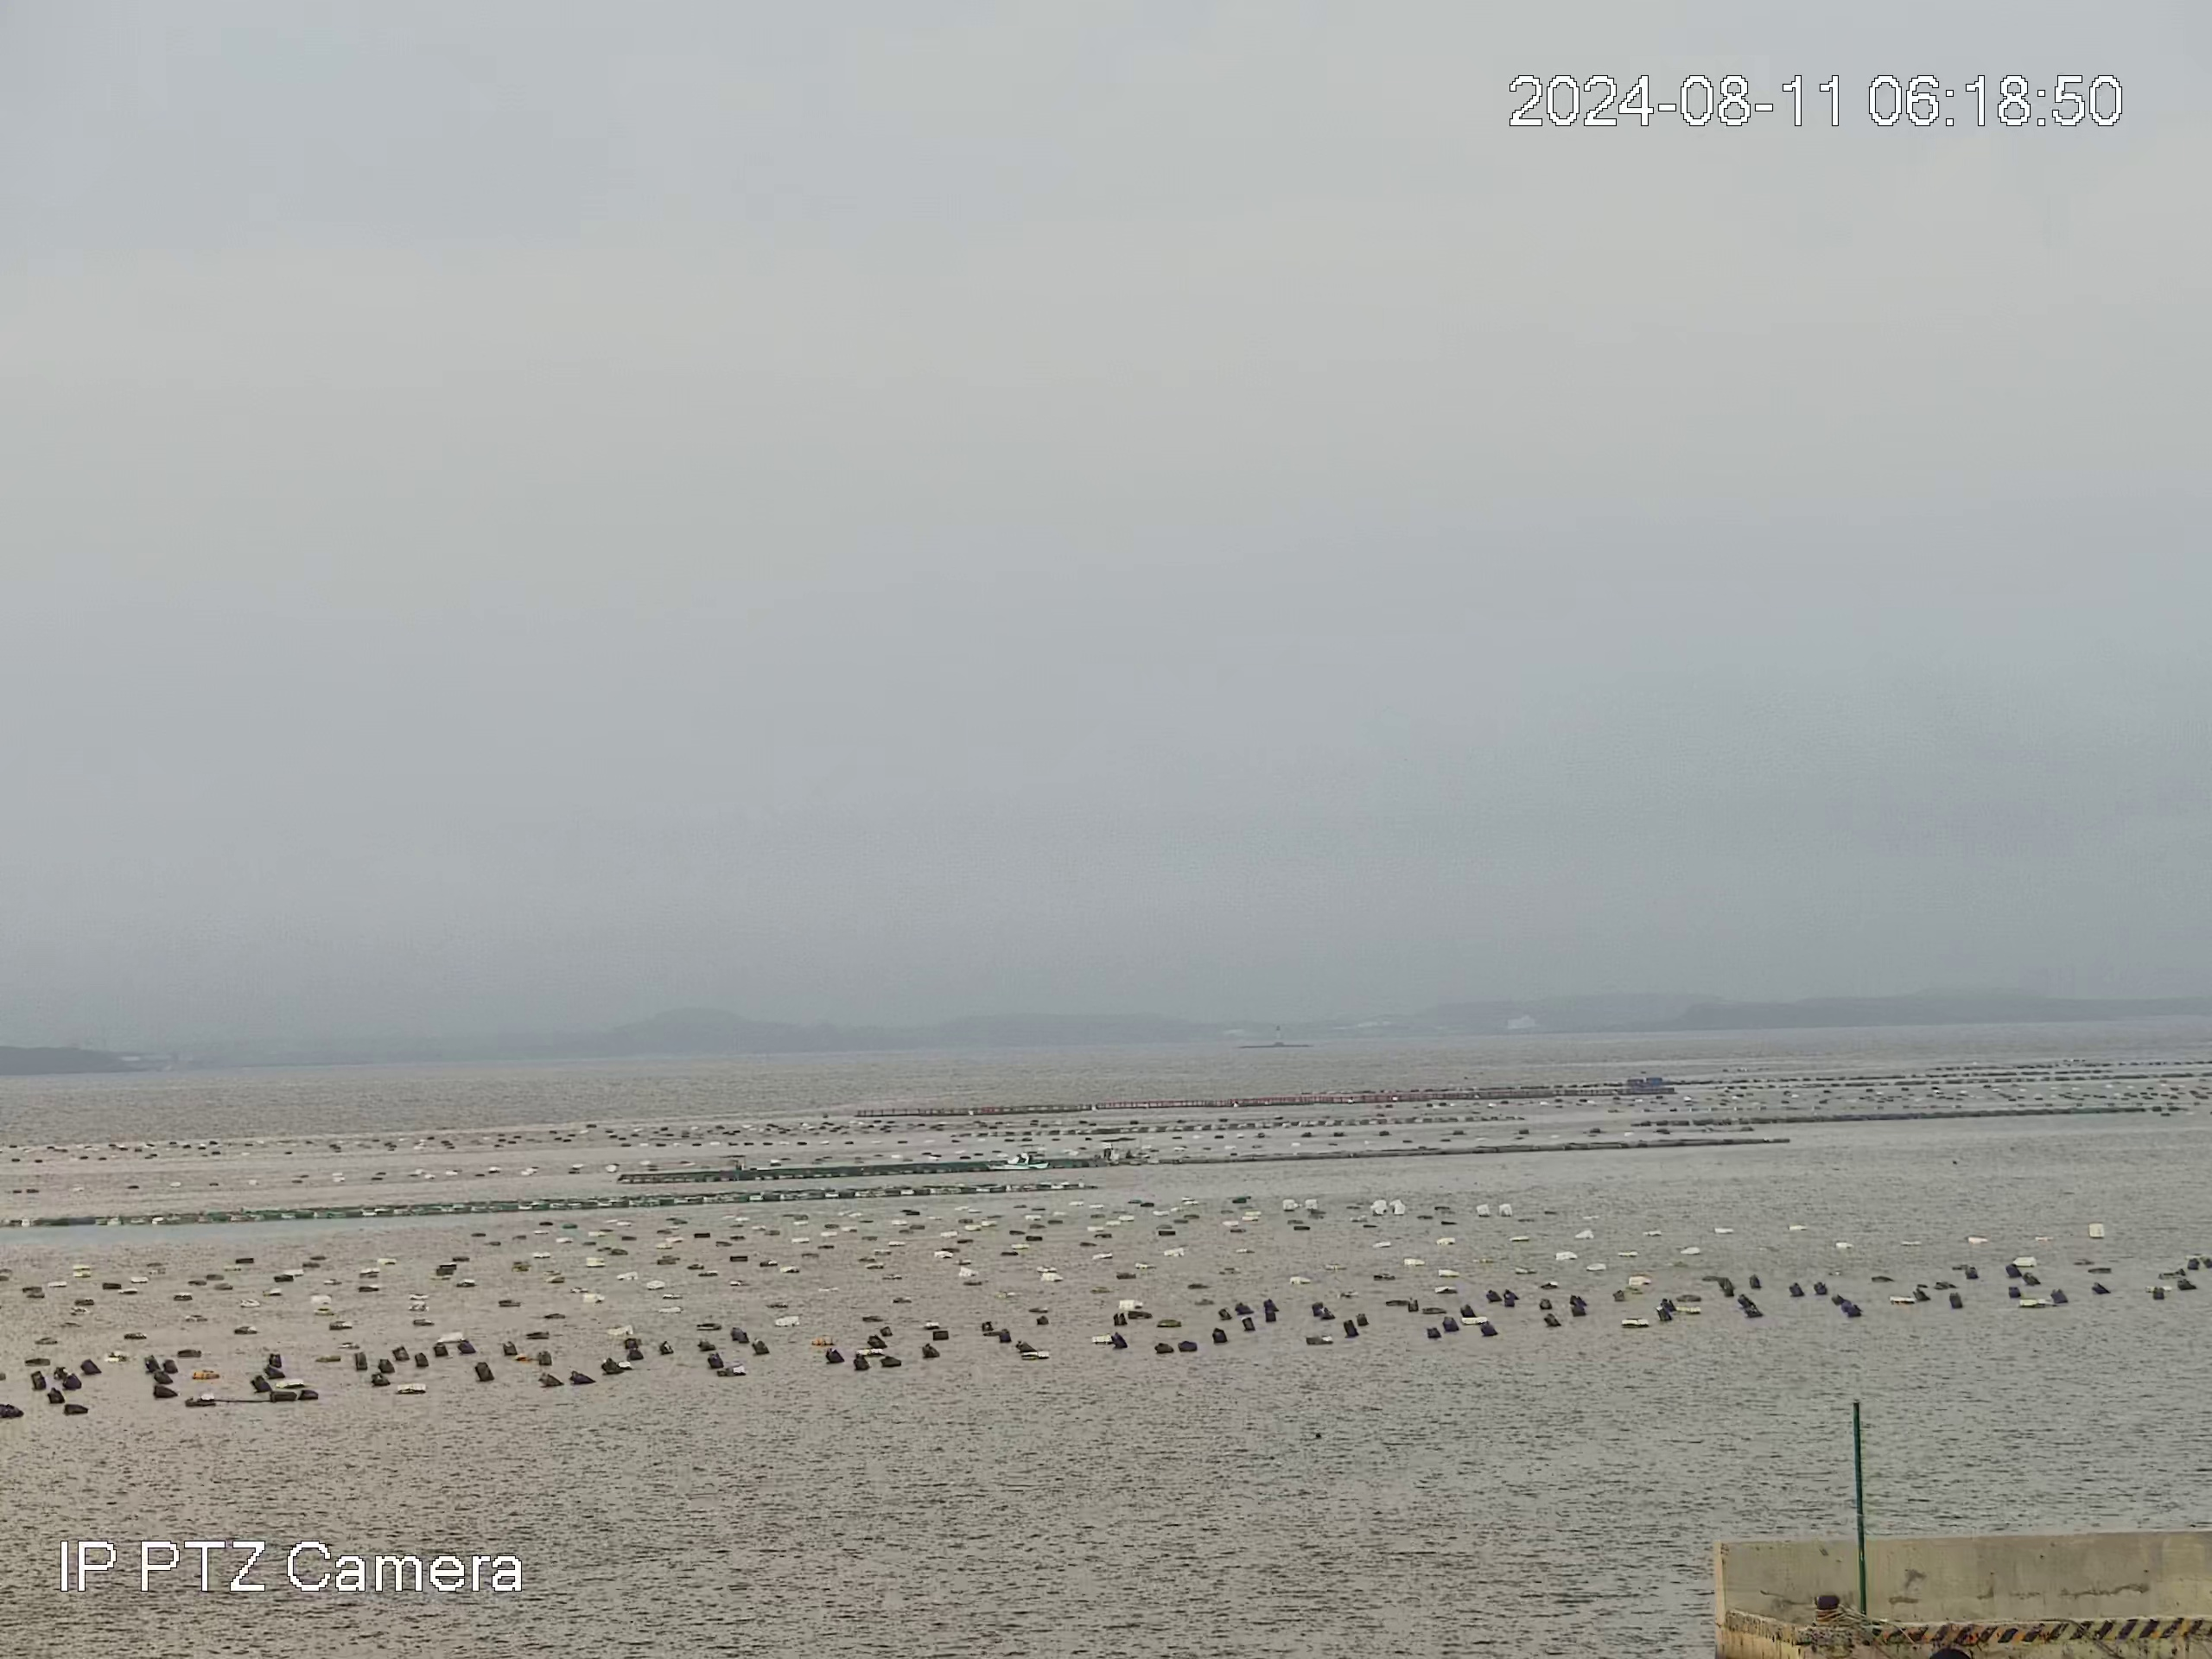boat: (982, 1150, 1052, 1173)
